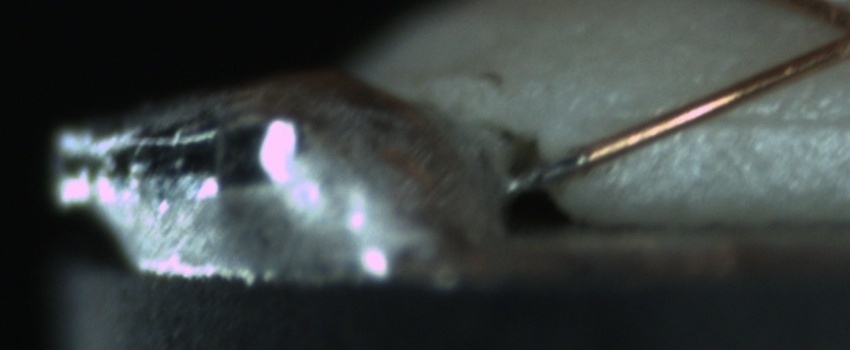CL: (806, 2, 850, 65)
DL: (625, 89, 849, 146)
TS: (506, 151, 588, 190)
